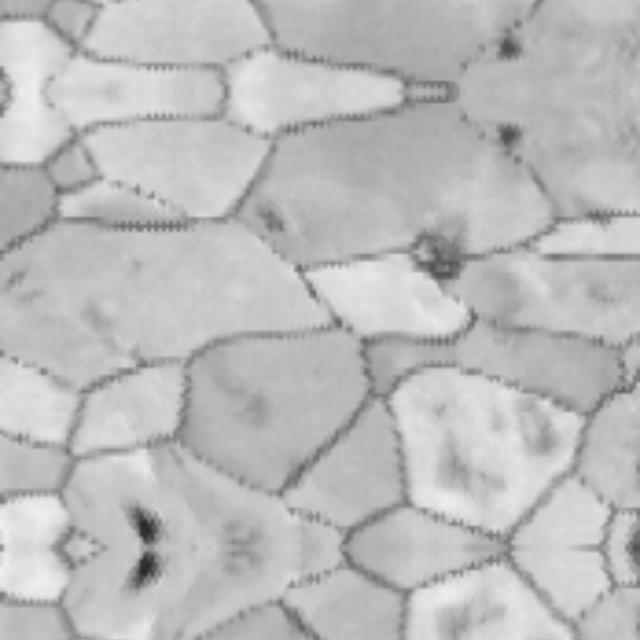good_void: (430, 427, 506, 501), (509, 400, 563, 461), (430, 597, 506, 640), (407, 230, 464, 282), (4, 271, 60, 312), (131, 509, 165, 548), (131, 550, 165, 589), (251, 205, 288, 235), (496, 128, 523, 151), (496, 35, 523, 58), (586, 213, 606, 223)
